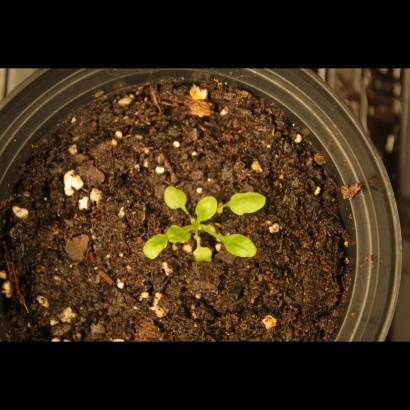leaf: (224, 188, 270, 219), (214, 232, 263, 261), (161, 181, 192, 216), (139, 228, 167, 261), (194, 192, 219, 225), (166, 221, 193, 248), (191, 243, 214, 268)
